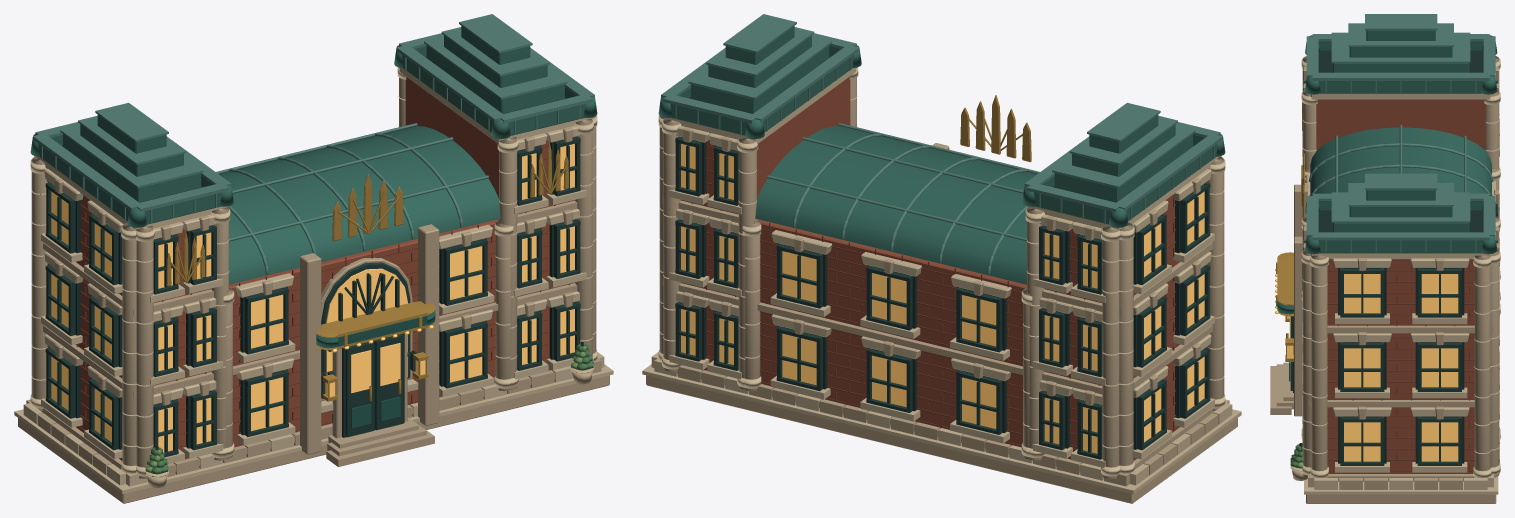
The picture shows the model from 3 angles, left to right: view 1: azimuth 30°, elevation 25°; view 2: azimuth 150°, elevation 25°; view 3: azimuth 270°, elevation 25°; orthographic projection. The views are drawn at different scales.
Visible parts, largest first — view 1: expansion_finance_2_geometry; view 2: expansion_finance_2_geometry; view 3: expansion_finance_2_geometry.
Boxes of the visible parts, x1,y1,x2,y2 form: expansion_finance_2_geometry: (14, 14, 613, 503); expansion_finance_2_geometry: (642, 14, 1241, 503); expansion_finance_2_geometry: (1270, 14, 1500, 503).
Bounding box in the file's own units: 2.26 × 1.45 × 1.02.
